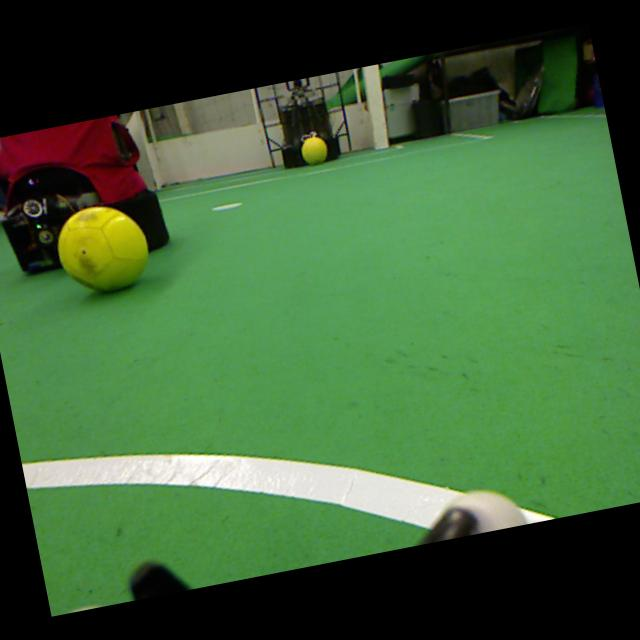ball: (57, 207, 148, 291), (301, 137, 327, 164)
goal: (125, 112, 157, 190), (365, 64, 389, 150)
robot: (277, 78, 340, 168)
